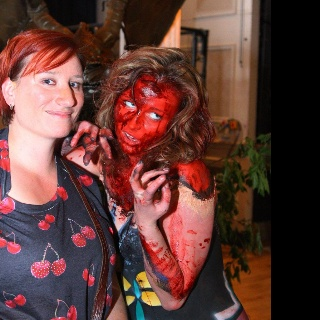without_mask: (11, 44, 86, 138), (111, 73, 185, 155)
